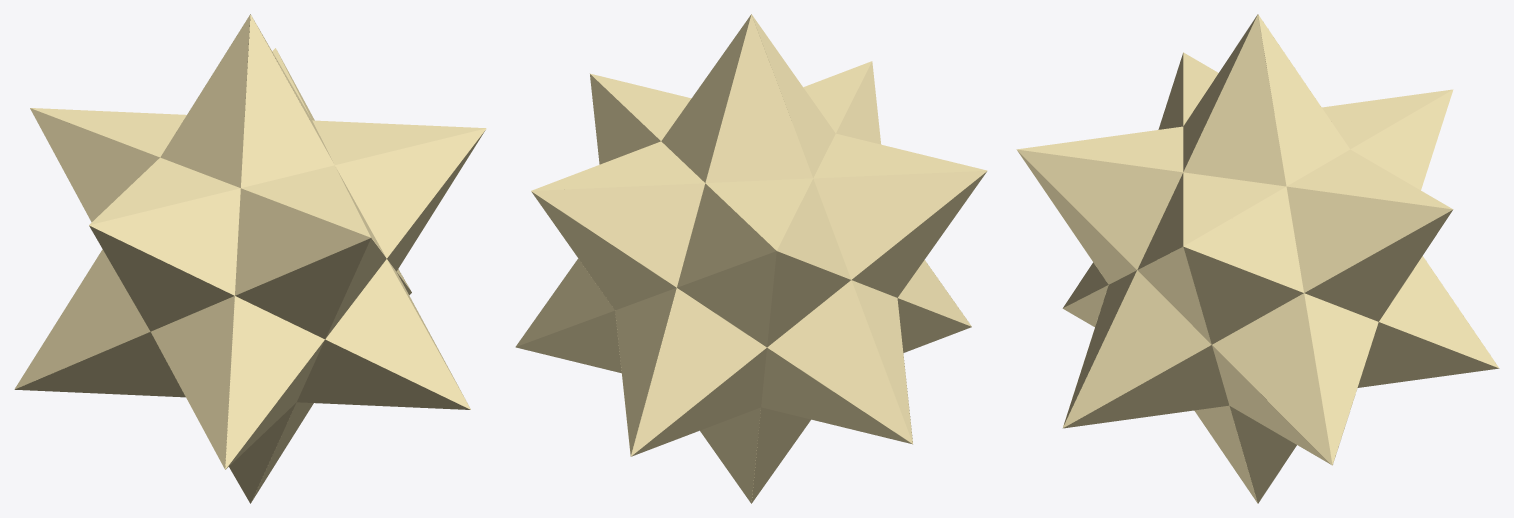
File: star_polyhedron (unlit).glb
The picture shows the model from 3 angles, left to right: view 1: azimuth 30°, elevation 25°; view 2: azimuth 150°, elevation 25°; view 3: azimuth 270°, elevation 25°; orthographic projection.
Visible parts, largest first — view 1: Pentagram.018; view 2: Pentagram.018; view 3: Pentagram.018.
Boxes of the visible parts, bbox=[...] form: Pentagram.018: bbox=[14, 14, 486, 503]; Pentagram.018: bbox=[515, 14, 987, 503]; Pentagram.018: bbox=[1016, 14, 1499, 503].
Bounding box in the file's own units: 6.18 × 7.27 × 6.5.
